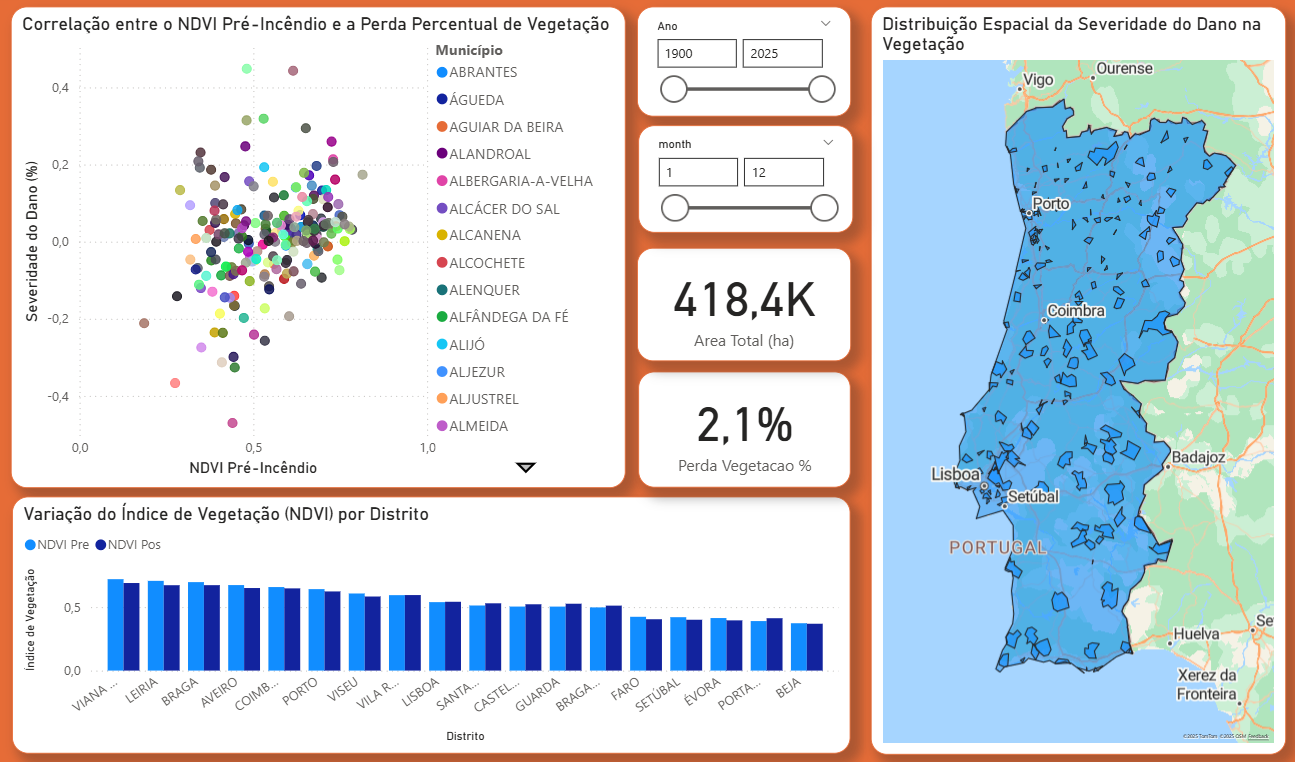

This screenshot's page, from the dashboard's own definition file:
{"tool":"powerbi","page":{"name":"Vegetacao","canvas":[1280,720],"ordinal":3},"visuals":[{"type":"scatterChart","title":"Correlação entre o NDVI Pré-Incêndio e a Perda Percentual de Vegetação","fields":{"Series":["dim_location.municipality"],"Y":["fact_vegetation.Perda Vegetacao %"],"X":["fact_vegetation.NDVI Pre"]},"box":[45.3,11.6,572.1,447.7],"z":0},{"type":"clusteredColumnChart","title":"Variação do Índice de Vegetação (NDVI) por Distrito","fields":{"Category":["dim_location.district"],"Y":["fact_vegetation.NDVI Pre","fact_vegetation.NDVI Pos"]},"box":[46.5,467.4,780.2,239.5],"z":1000},{"type":"azureMap","title":"Distribuição Espacial da Severidade do Dano na Vegetação","fields":{"Category":["dim_location.Localizacao Completa"]},"box":[845,11.2,386.2,696.2],"z":2000},{"type":"card","fields":{"Values":["fact_vegetation.Perda Vegetacao %"]},"box":[629.1,351.2,197.7,108.1],"z":3000},{"type":"card","fields":{"Values":["fact_vegetation.Area Total (ha)"]},"box":[627.9,236,198.8,105.8],"z":4000},{"type":"slicer","fields":{"Values":["dim_day.year"]},"box":[627.9,11.6,198.8,102.3],"z":5000},{"type":"slicer","fields":{"Values":["dim_day.month"]},"box":[629.1,122.1,200,100],"z":5001}]}

Visuals, with their boxes in screenshot pixels (x1, y1, x2, y2):
"Correlação entre o NDVI Pré-Incêndio e a Perda Percentual de Vegetação" scatterChart: 8, 2, 622, 482
"Variação do Índice de Vegetação (NDVI) por Distrito" clusteredColumnChart: 9, 491, 846, 748
"Distribuição Espacial da Severidade do Dano na Vegetação" azureMap: 866, 2, 1280, 749
card - fact_vegetation.Perda Vegetacao %: 634, 367, 846, 482
card - fact_vegetation.Area Total (ha): 633, 243, 846, 356
slicer - dim_day.year: 633, 2, 846, 112
slicer - dim_day.month: 634, 121, 849, 228
